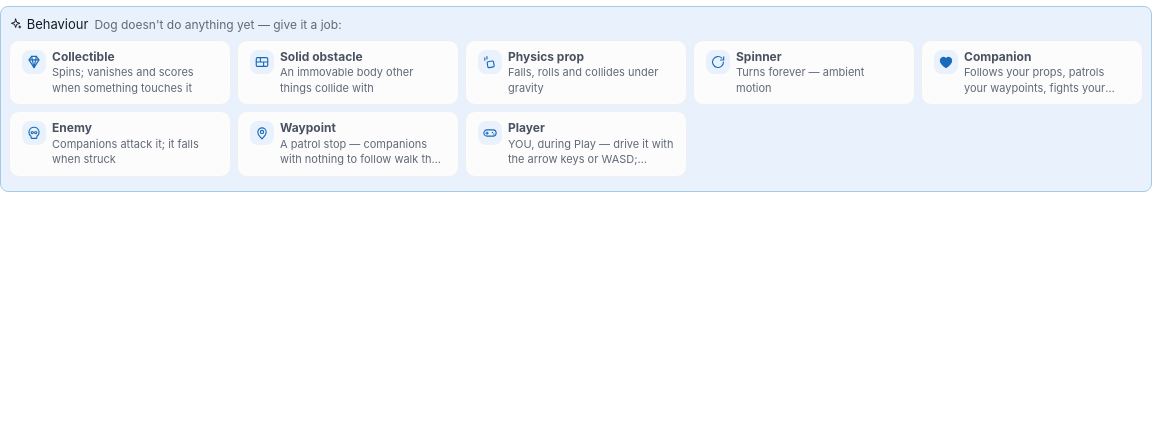
Scenario: assigning from the Inspector lands with the undo hint and updates the held-role line
Expected: the text with test id "behaviour-state" shows "doesn't do anything yet", [94,17,342,32]
Click the button with test id "behaviour-companion": x=1032, y=72 [921,40,1143,105]
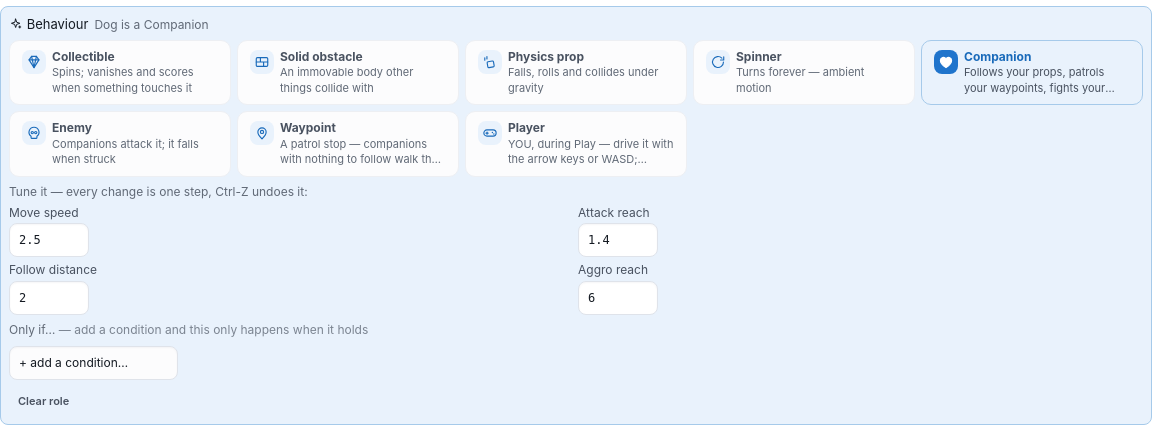
Now the text with test id "behaviour-state" reads "Dog is a Companion", box [94,17,209,32]
Now the button with test id "behaviour-clear" is shown, box [9,386,78,416]
